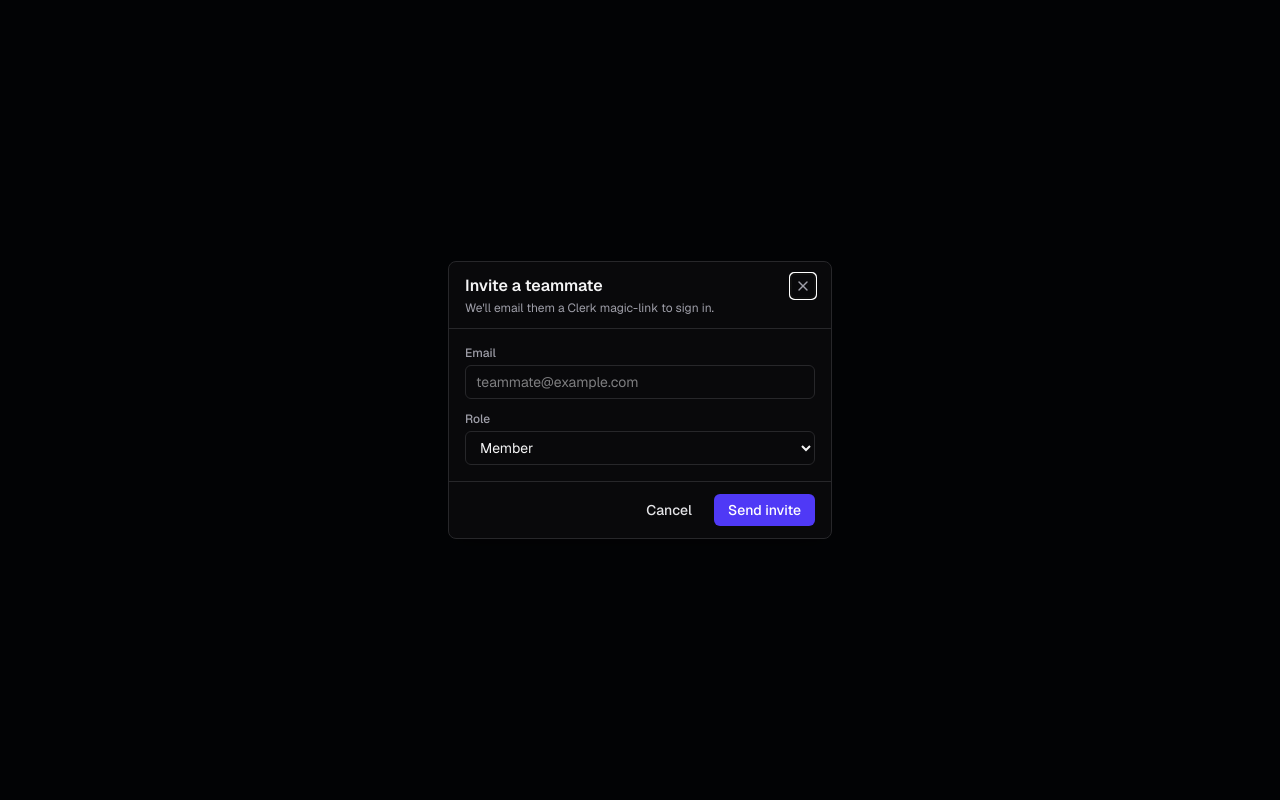
Scenario: InviteMemberDialog › surfaces API errors in an alert
Type "dup@example.com" into the field labelled "Email" at (640, 382), box [465,365,815,399]
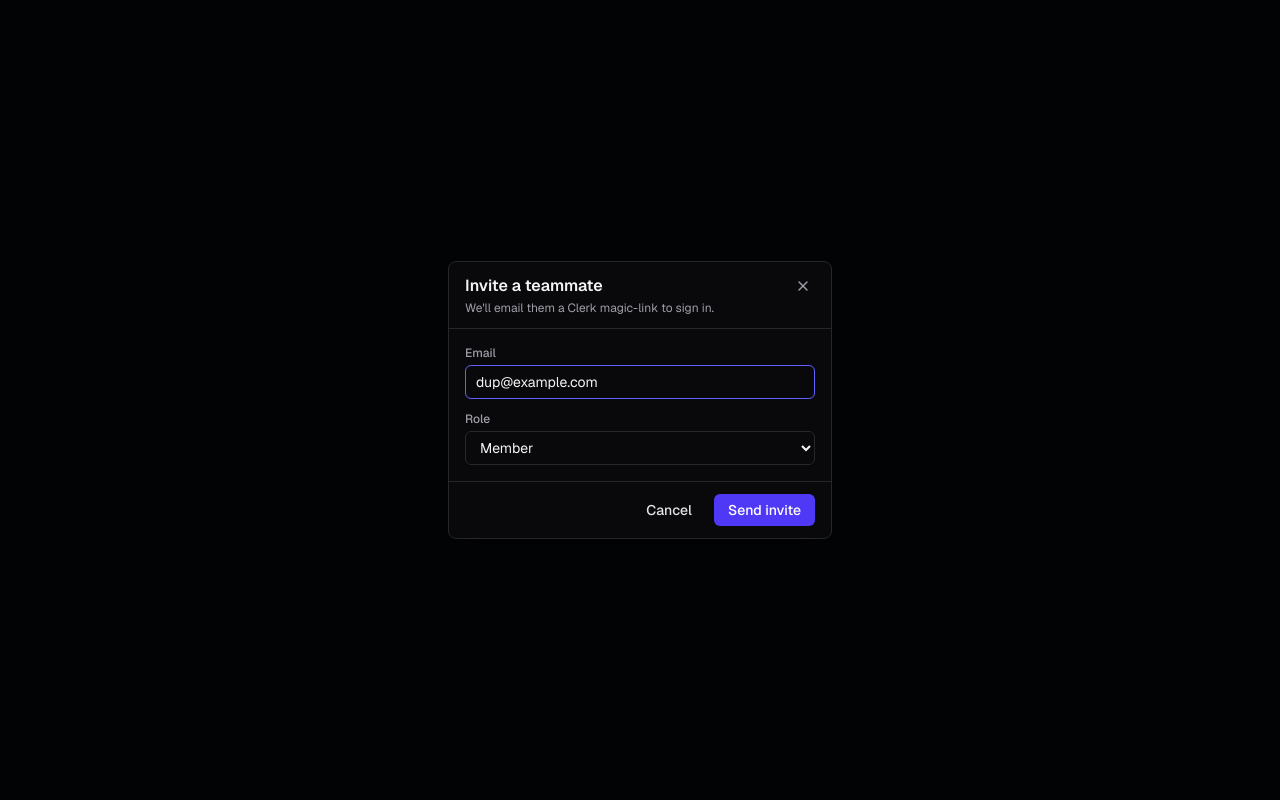
Click the button "Send invite" at (764, 510), box [714,494,815,526]
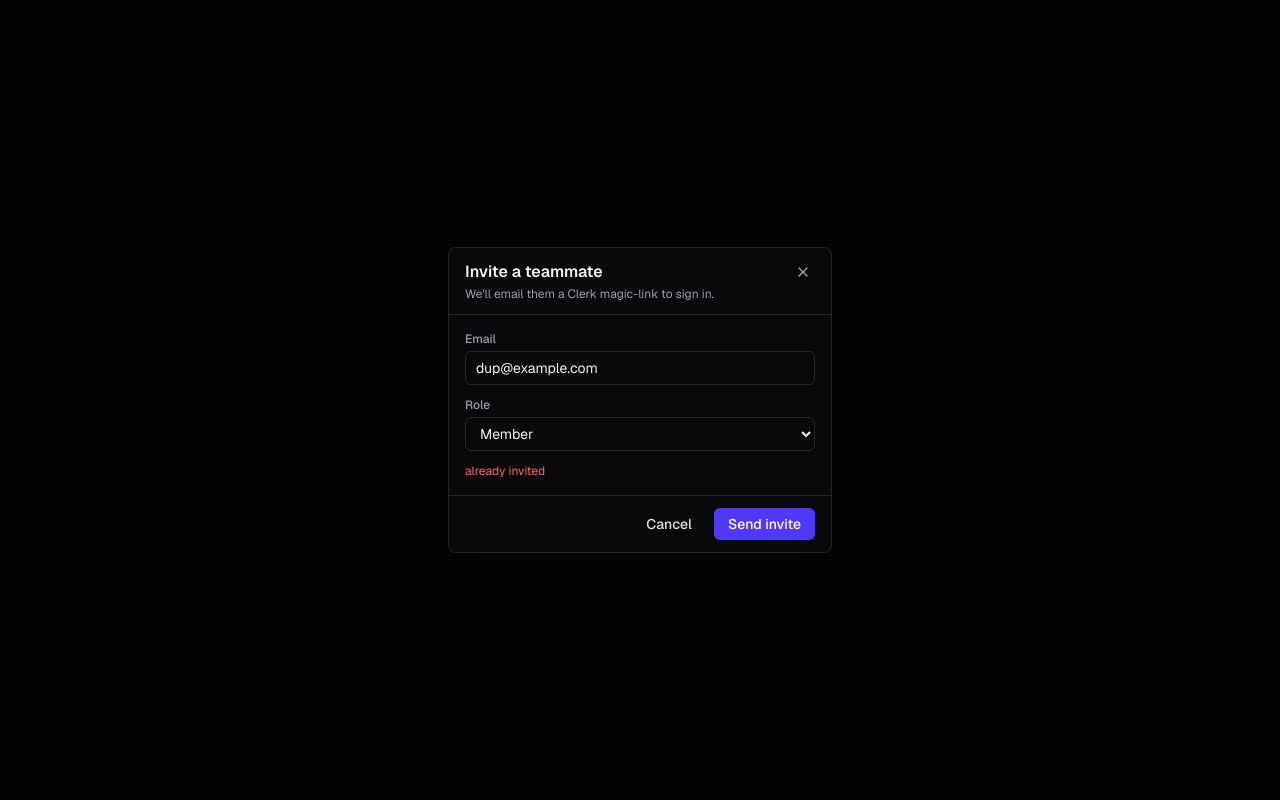
Expected: the message reads "already invited", [465,463,545,479]
